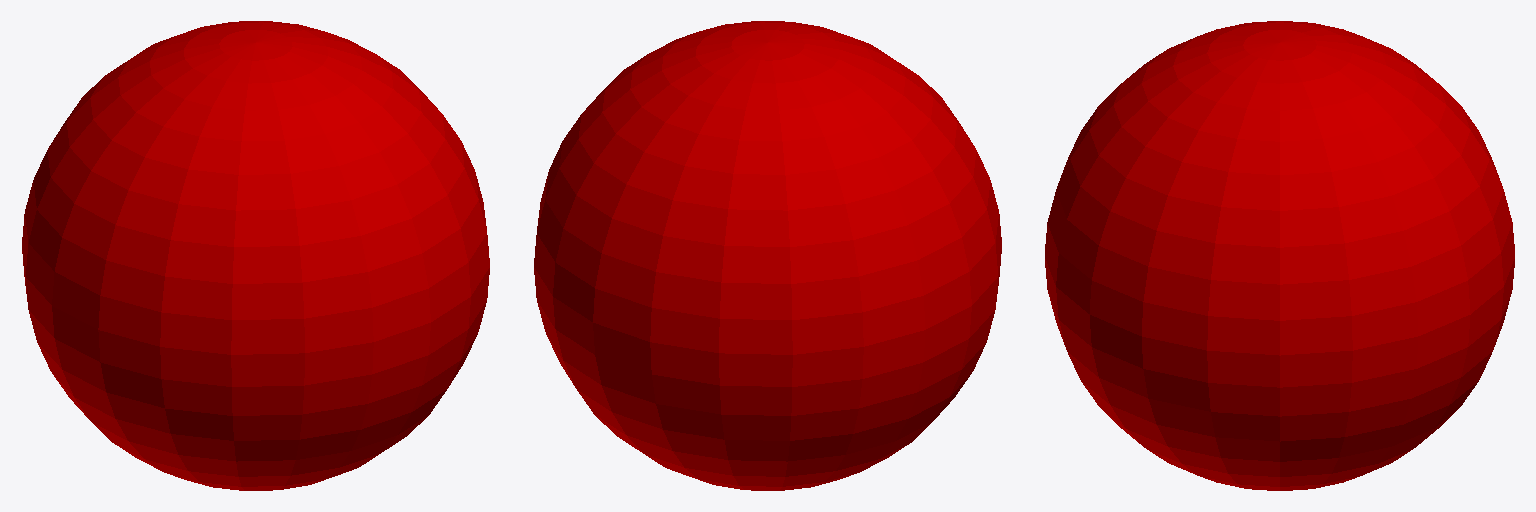
Rendered from red_ball.obj.
3 renders of one model, left to right at view 1: azimuth 30°, elevation 25°; view 2: azimuth 150°, elevation 25°; view 3: azimuth 270°, elevation 25°, orthographic.
Visible parts, largest first — view 1: pSphere1; view 2: pSphere1; view 3: pSphere1.
Boxes of the visible parts, x1,y1,x2,y2 form: pSphere1: [22, 21, 489, 490]; pSphere1: [534, 21, 1001, 490]; pSphere1: [1045, 21, 1514, 490].
Bounding box in the file's own units: 2 × 2 × 2.